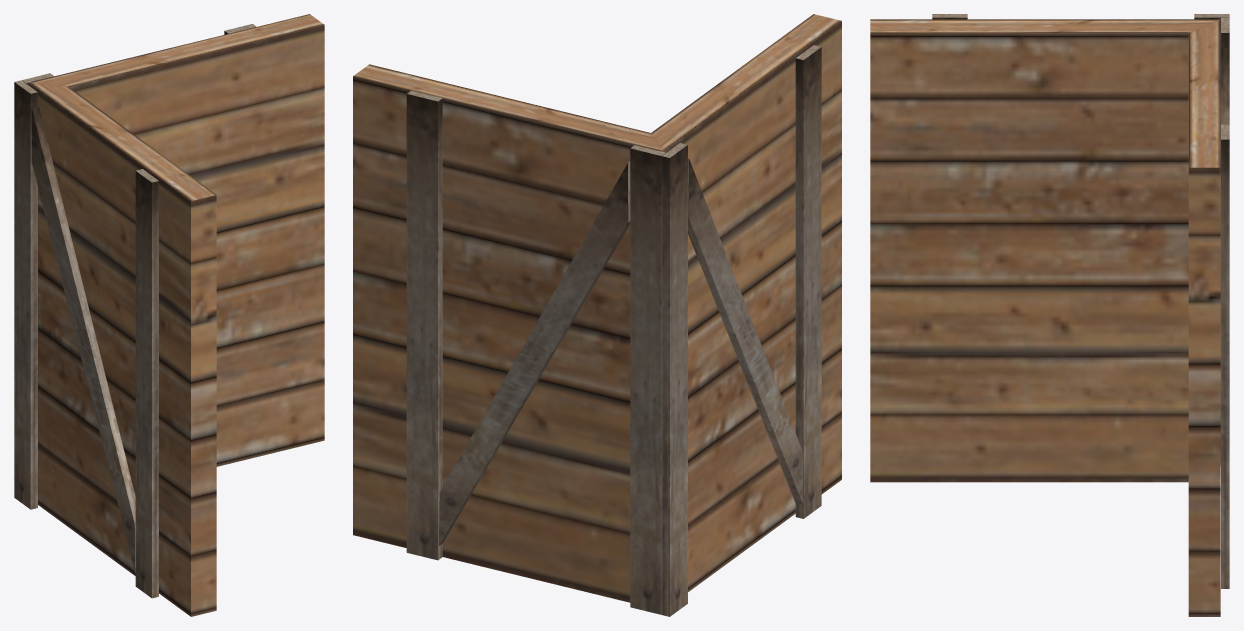
The model's file is Cabin_Wall_Thin_Corner_Collider.obj.
The picture shows the model from 3 angles, left to right: view 1: azimuth 30°, elevation 25°; view 2: azimuth 150°, elevation 25°; view 3: azimuth 270°, elevation 25°; orthographic projection. The views are drawn at different scales.
Visible parts, largest first — view 1: Cube_Cube.001, Supports_Cube.002; view 2: Cube_Cube.001, Supports_Cube.002; view 3: Cube_Cube.001, Supports_Cube.002.
Part boxes in pixels (left/top/right/bottom): Cube_Cube.001: left=29, top=14, right=324, bottom=616; Supports_Cube.002: left=14, top=24, right=256, bottom=598; Cube_Cube.001: left=353, top=14, right=841, bottom=602; Supports_Cube.002: left=406, top=45, right=821, bottom=616; Cube_Cube.001: left=870, top=19, right=1220, bottom=616; Supports_Cube.002: left=932, top=14, right=1229, bottom=588.
Size of the model in its own units: 1.03 by 1.4 by 1.02.
